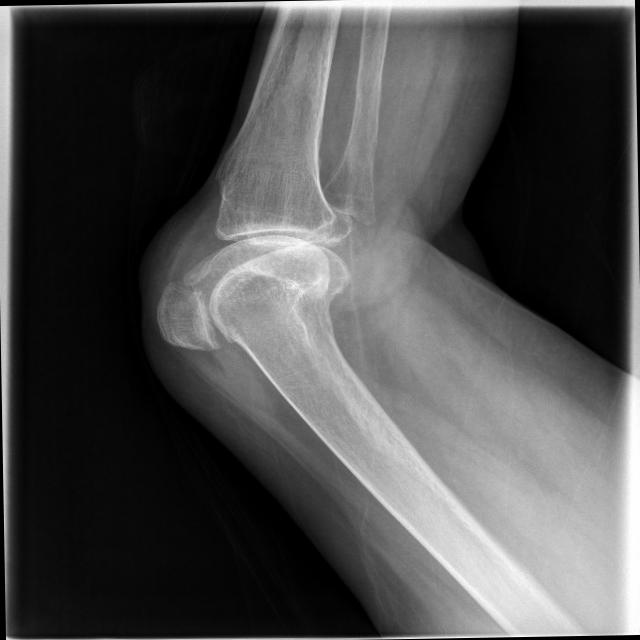Knee: (152, 173, 352, 354)
